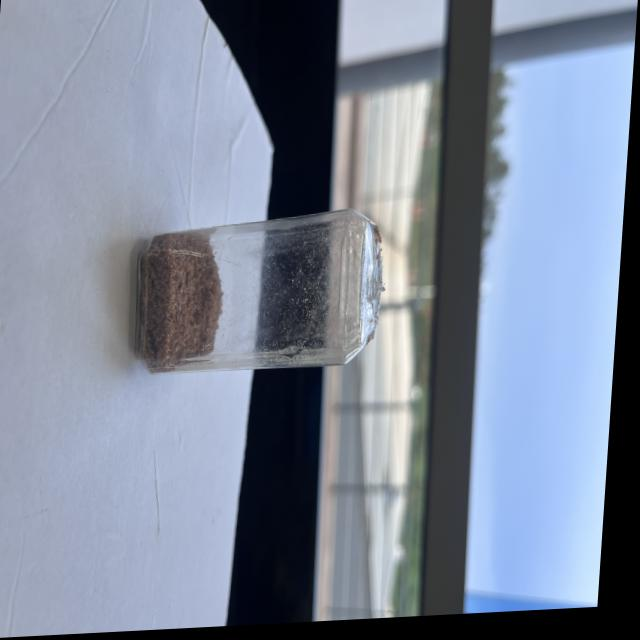maggie_open: (136, 234, 227, 373)
